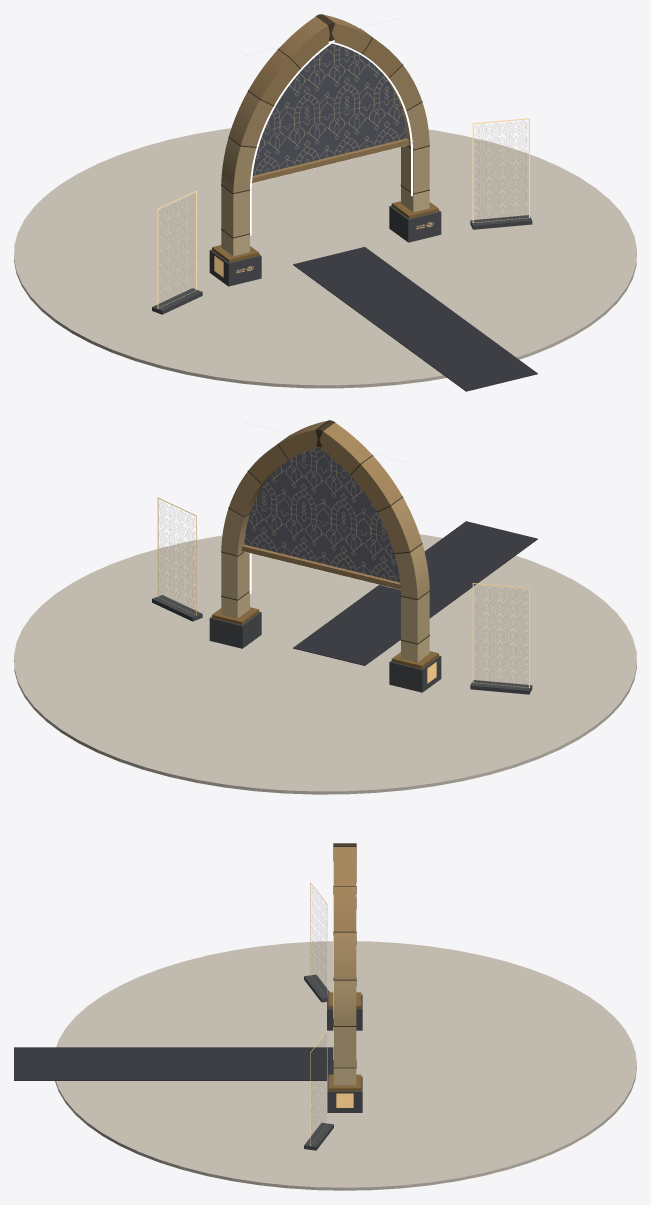
The model's file is gate.glb.
The picture shows the model from 3 angles, top to bottom: view 1: azimuth 30°, elevation 25°; view 2: azimuth 150°, elevation 25°; view 3: azimuth 270°, elevation 25°; orthographic projection. The views are drawn at different scales.
Visible parts, largest first — view 1: disc, rug00.0, ty00.0, seg0_7, seg0_8, seg0_6, seg0_9, pl00.01, seg0_10, bar00.0, pl00.0-1, seg0_1 (+11 smaller); view 2: disc, ty00.0, rug00.0, seg0_7, seg0_8, seg0_6, seg0_9, pl00.01, seg0_10, seg0_1, bar00.0, pl00.0-1 (+10 smaller); view 3: disc, rug00.0, seg0_3, seg0_2, seg0_4, seg0_1, seg0_5, pl00.01.
Part boxes in pixels (<box>): disc: <box>14,128,636,388</box>; rug00.0: <box>293,247,537,391</box>; ty00.0: <box>252,42,406,175</box>; seg0_7: <box>248,50,300,105</box>; seg0_8: <box>229,91,273,146</box>; seg0_6: <box>278,16,334,67</box>; seg0_9: <box>221,138,256,192</box>; pl00.01: <box>389,205,441,242</box>; seg0_10: <box>221,186,249,237</box>; bar00.0: <box>252,138,409,183</box>; pl00.0-1: <box>209,249,261,286</box>; seg0_1: <box>401,146,429,193</box>; disc: <box>14,534,636,794</box>; ty00.0: <box>244,447,400,582</box>; rug00.0: <box>293,521,537,665</box>; seg0_7: <box>350,456,402,511</box>; seg0_8: <box>377,497,421,552</box>; seg0_6: <box>316,422,371,474</box>; seg0_9: <box>394,544,429,599</box>; pl00.01: <box>209,612,261,648</box>; seg0_10: <box>401,592,429,643</box>; seg0_1: <box>221,552,249,599</box>; bar00.0: <box>241,544,400,589</box>; pl00.0-1: <box>389,655,441,692</box>; disc: <box>55,941,636,1190</box>; rug00.0: <box>14,1047,333,1080</box>; seg0_3: <box>333,932,356,979</box>; seg0_2: <box>333,980,356,1025</box>; seg0_4: <box>333,886,356,931</box>; seg0_1: <box>333,1027,356,1067</box>; seg0_5: <box>333,847,356,885</box>; pl00.01: <box>327,1076,362,1112</box>.
Size of the model in its own units: 18 by 7.58 by 19.2.
Materials: 28 (7 with a texture image).
